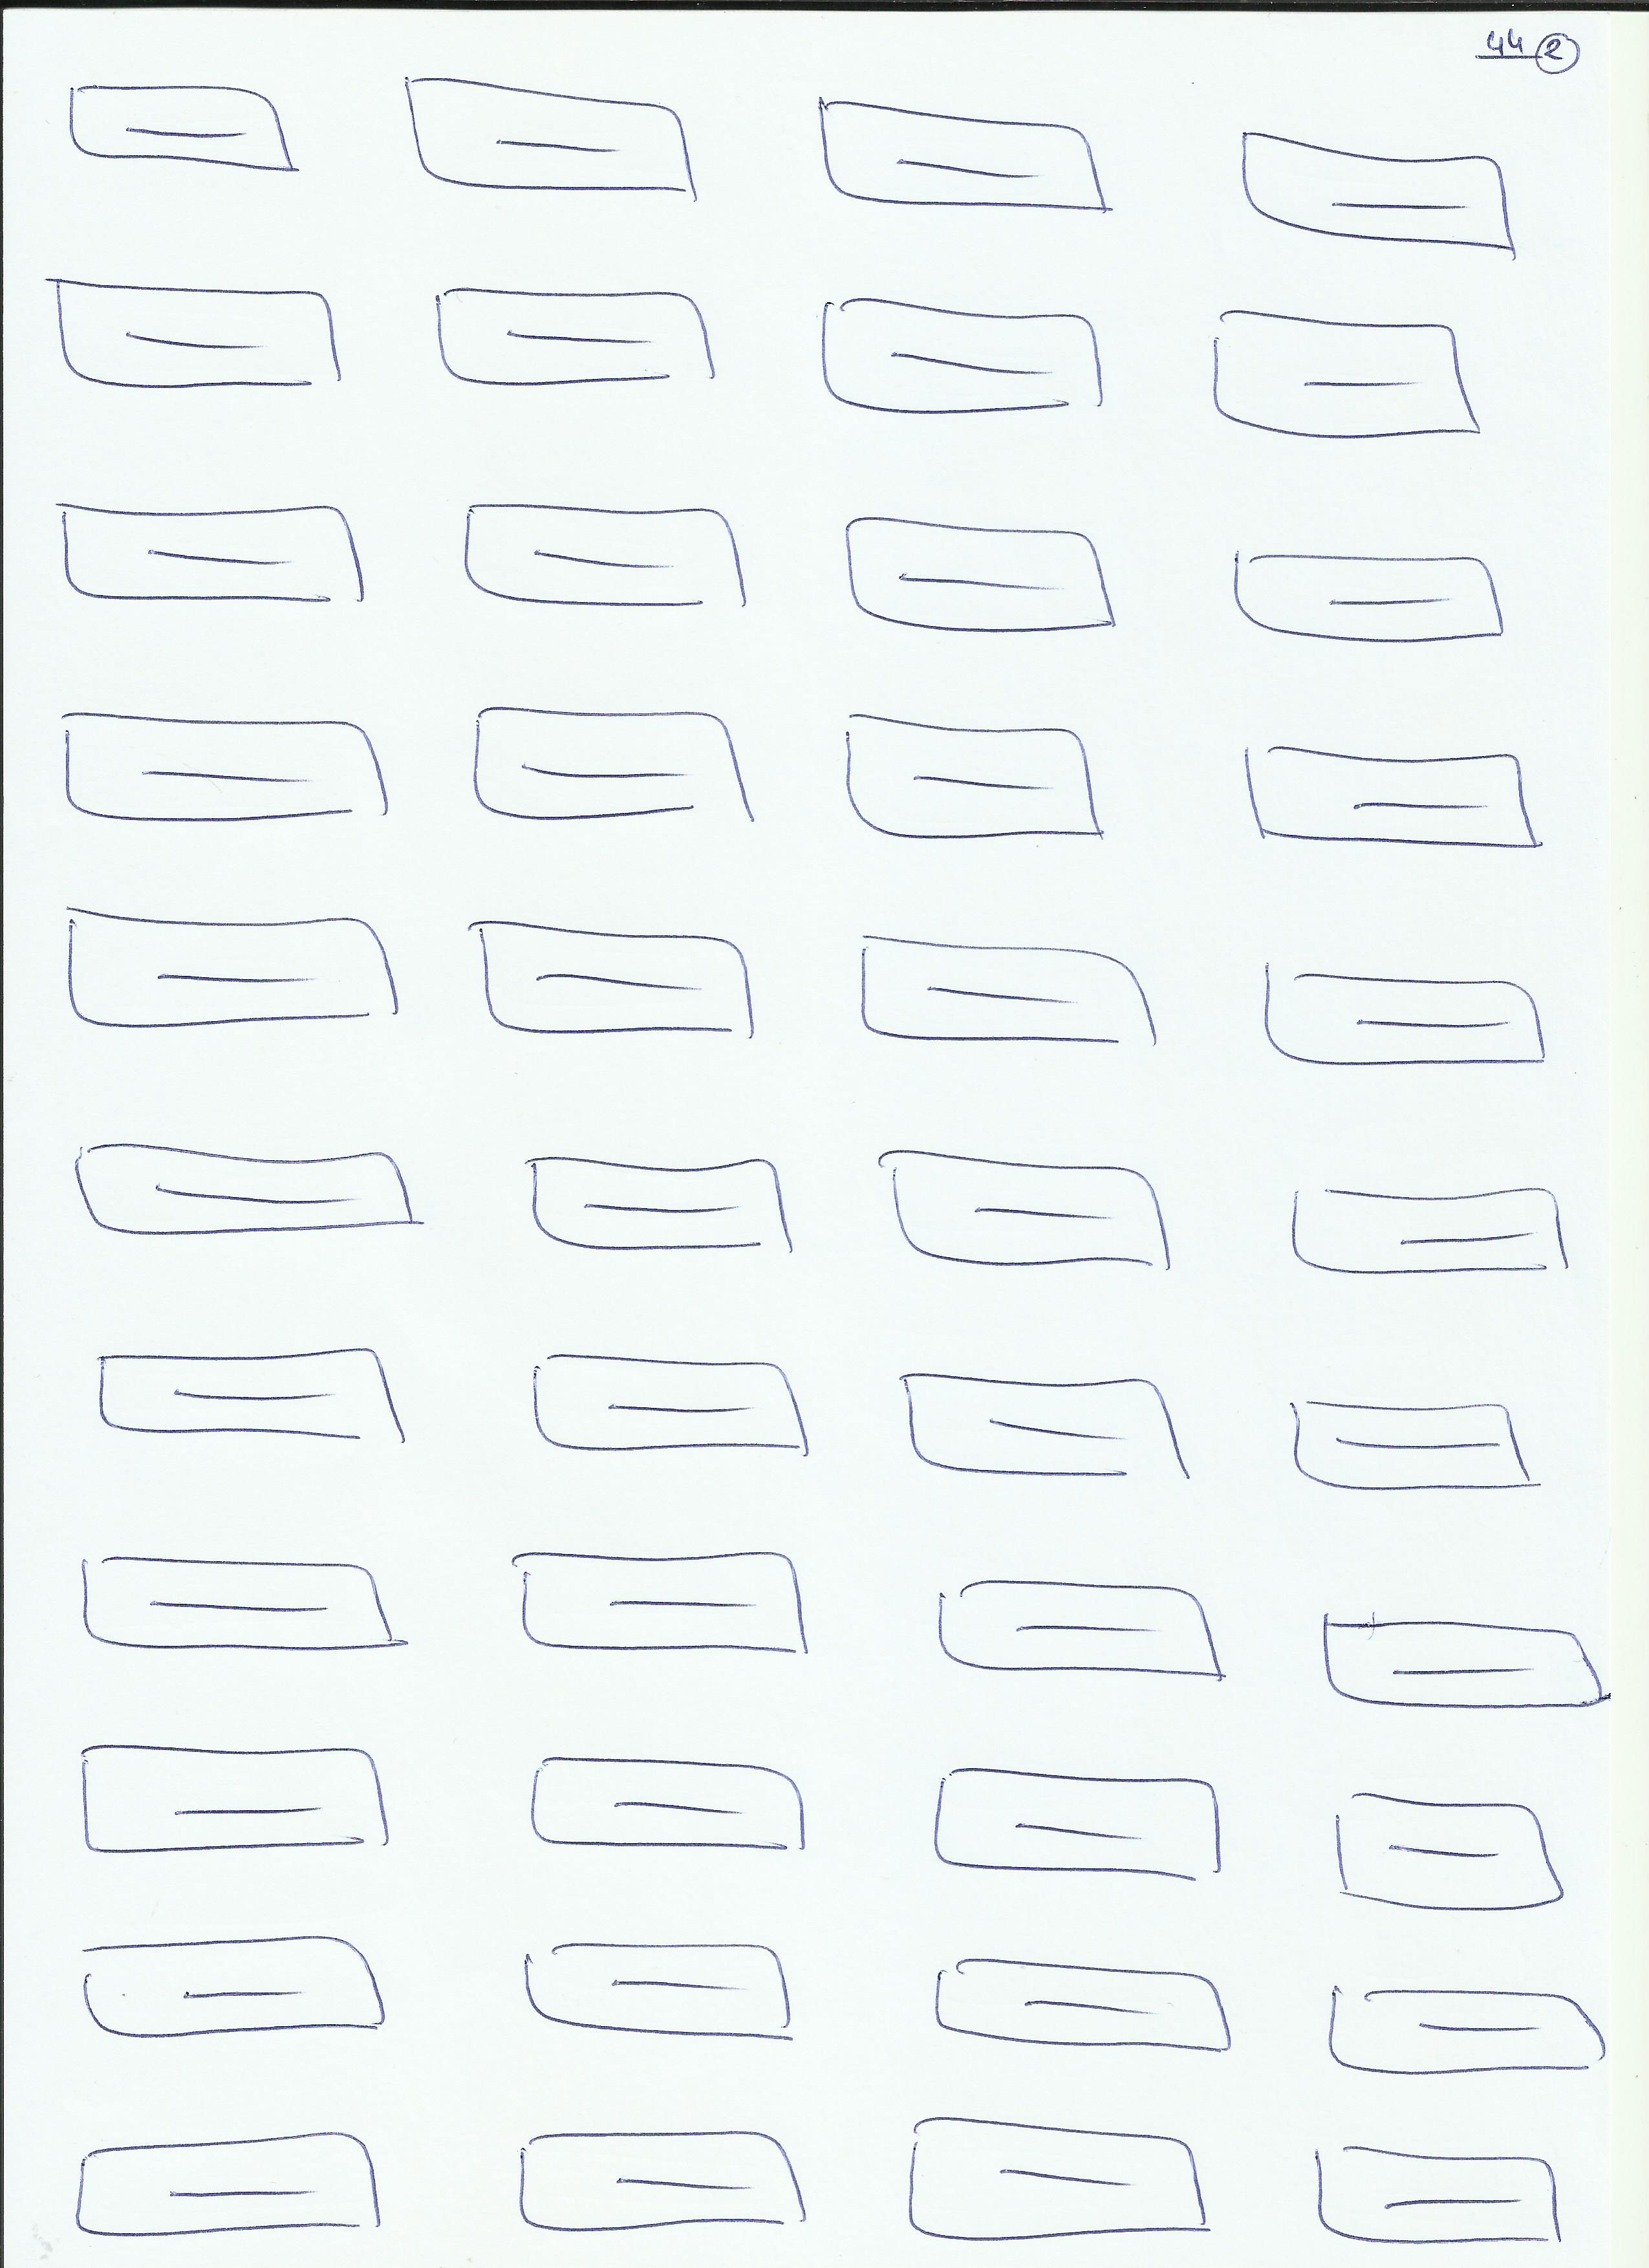edit_text: (801, 88, 1132, 236), (18, 268, 363, 409), (56, 896, 410, 1034), (394, 74, 715, 215), (869, 1138, 1181, 1282), (898, 2108, 1218, 2247), (1225, 120, 1533, 264), (852, 921, 1170, 1058), (463, 910, 769, 1051), (503, 1532, 825, 1666), (836, 703, 1112, 858), (883, 1359, 1202, 1493), (70, 1543, 412, 1666), (1202, 305, 1487, 451), (70, 1734, 394, 1863), (49, 706, 401, 824), (927, 1565, 1239, 1697), (1253, 947, 1563, 1079), (46, 498, 380, 620), (815, 289, 1110, 426), (829, 505, 1128, 641), (929, 1759, 1235, 1891), (1228, 741, 1556, 865), (459, 498, 766, 627), (1311, 1597, 1612, 1727), (466, 699, 760, 831), (86, 1338, 424, 1453), (1283, 1166, 1580, 1291), (521, 1342, 825, 1463), (63, 1141, 431, 1241), (431, 278, 729, 398), (517, 1145, 801, 1270), (70, 1935, 398, 2043), (76, 2132, 391, 2243), (531, 1745, 811, 1867), (1214, 548, 1526, 655), (514, 2125, 815, 2236), (929, 1953, 1239, 2060), (1283, 1386, 1549, 1511), (1332, 1787, 1573, 1925), (1308, 2132, 1577, 2254), (514, 1935, 797, 2050), (1325, 1974, 1612, 2083), (49, 74, 320, 185)
